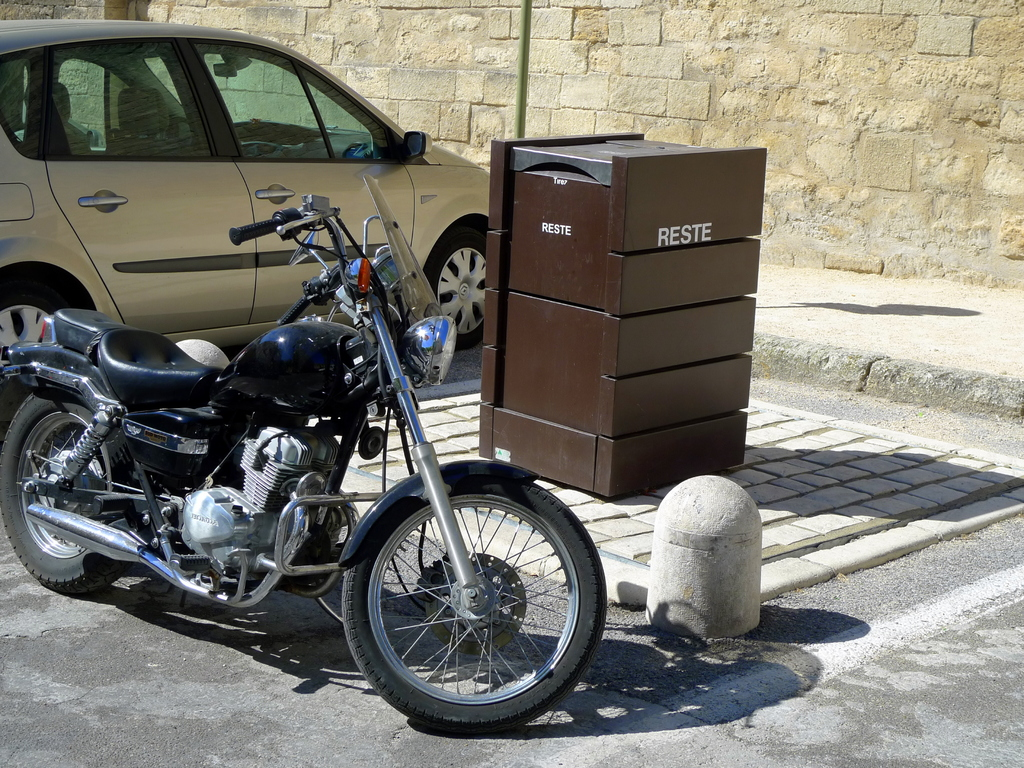Car: (0, 35, 515, 355)
